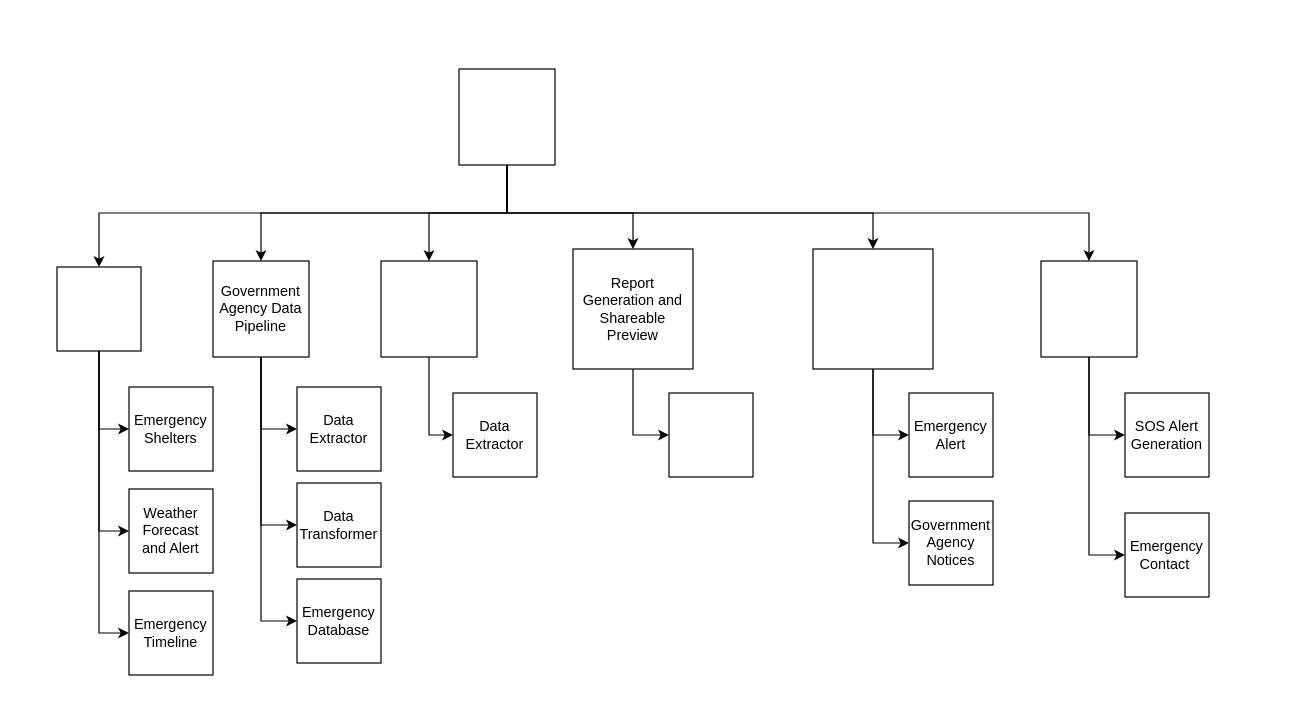
This 1289x725 diagram has some shape labels left out. Here are the shapes that lost their labels. From the top down, the box of each, then its label:
(458, 68, 555, 165): Emergency OS
(56, 266, 141, 351): Interactive Emergency Map
(380, 260, 477, 357): Progressive Web App
(812, 248, 933, 369): Personalized Emergency Alerts and Notifications
(1040, 260, 1137, 357): SOS Alert
(668, 392, 753, 477): Report Generator
